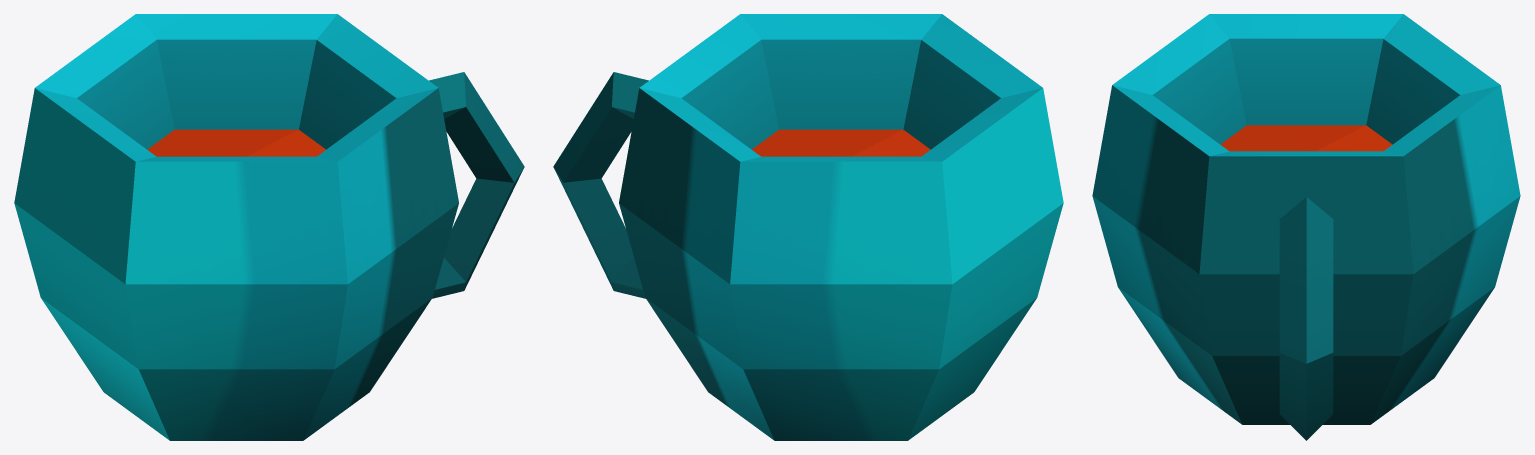
The model's file is CanecaAzulClaro.fbx.
The picture shows the model from 3 angles, left to right: view 1: azimuth 30°, elevation 25°; view 2: azimuth 150°, elevation 25°; view 3: azimuth 270°, elevation 25°; orthographic projection. The views are drawn at different scales.
Visible parts, largest first — view 1: CanezaAzulClaro; view 2: CanezaAzulClaro; view 3: CanezaAzulClaro.
Boxes of the visible parts, left/top/right/bottom form: CanezaAzulClaro: left=14, top=14, right=524, bottom=440; CanezaAzulClaro: left=553, top=14, right=1063, bottom=440; CanezaAzulClaro: left=1092, top=14, right=1520, bottom=440.
Bounding box in the file's own units: 32.14 × 20.55 × 27.22.
